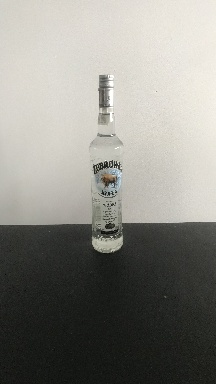butelka: (87, 71, 124, 256)
